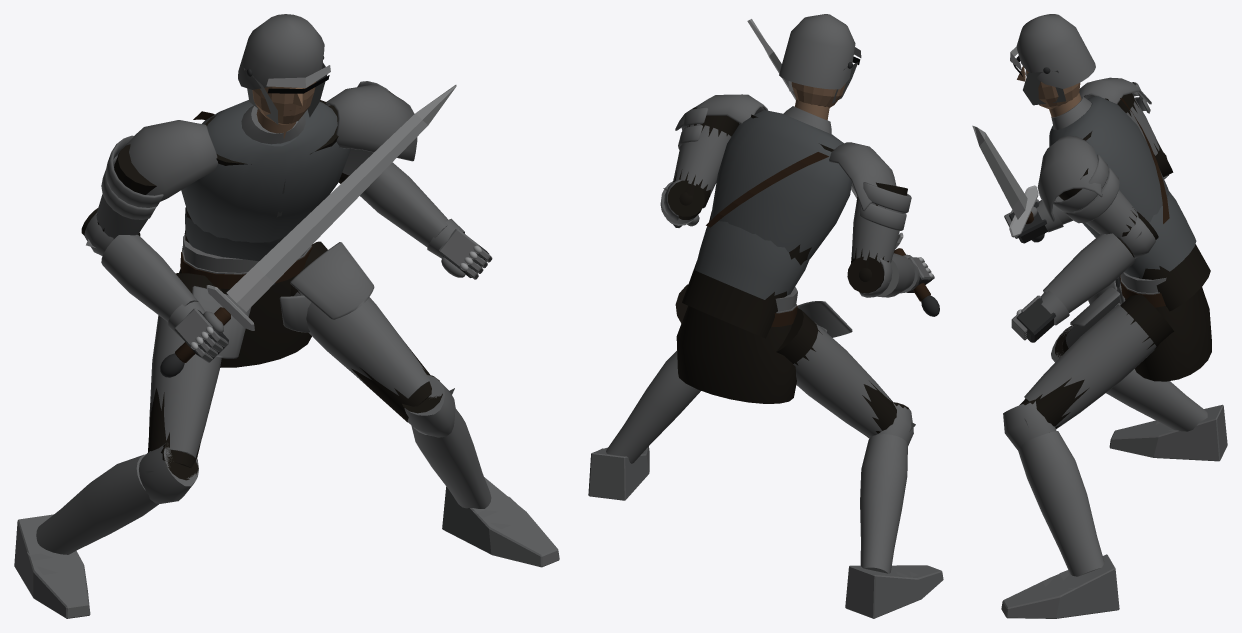
File: knight_lookdev.glb
3 views of the same model, side by side, from view 1: azimuth 30°, elevation 25°; view 2: azimuth 150°, elevation 25°; view 3: azimuth 270°, elevation 25° (orthographic). The views are drawn at different scales.
Parts seen in each view (by area): view 1: Knight static armor study; view 2: Knight static armor study; view 3: Knight static armor study.
Part boxes in pixels (x1=…): Knight static armor study: x1=14, y1=14, x2=559, y2=618; Knight static armor study: x1=588, y1=14, x2=943, y2=618; Knight static armor study: x1=972, y1=14, x2=1227, y2=618.
Size of the model in its own units: 1.66 by 2.12 by 0.9877.
1 material, 1 textured.
